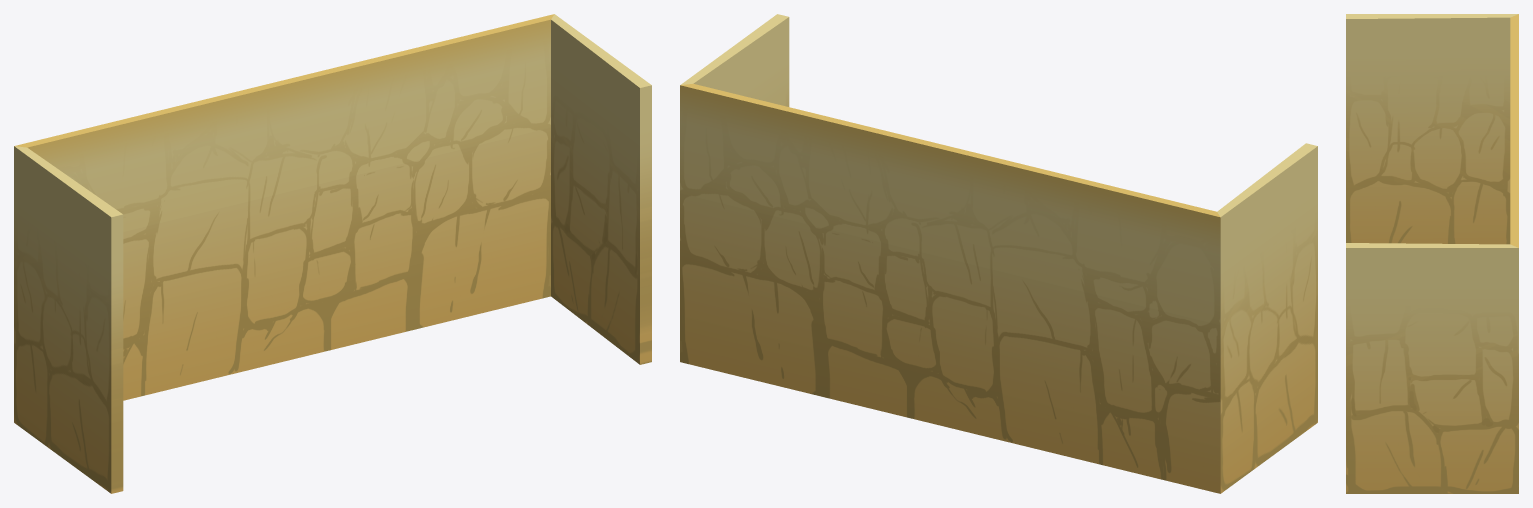
The model's file is Wall_Csection.FBX.
The picture shows the model from 3 angles, left to right: view 1: azimuth 30°, elevation 25°; view 2: azimuth 150°, elevation 25°; view 3: azimuth 270°, elevation 25°; orthographic projection. The views are drawn at different scales.
Visible parts, largest first — view 1: Wall_default; view 2: Wall_default; view 3: Wall_default.
Boxes of the visible parts, box(x1,y1,x2,y2) form: Wall_default: box(14, 14, 651, 493); Wall_default: box(680, 14, 1317, 493); Wall_default: box(1346, 14, 1518, 493).
Bounding box in the file's own units: 45.7 × 22.37 × 14.25.
